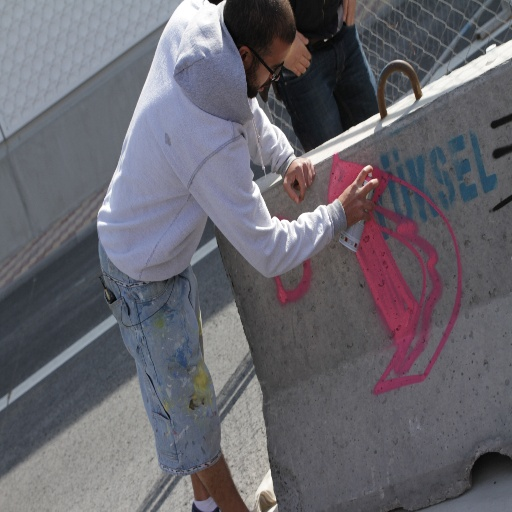hand: (338, 163, 379, 225), (283, 156, 317, 204), (284, 30, 312, 79), (342, 0, 358, 29)
